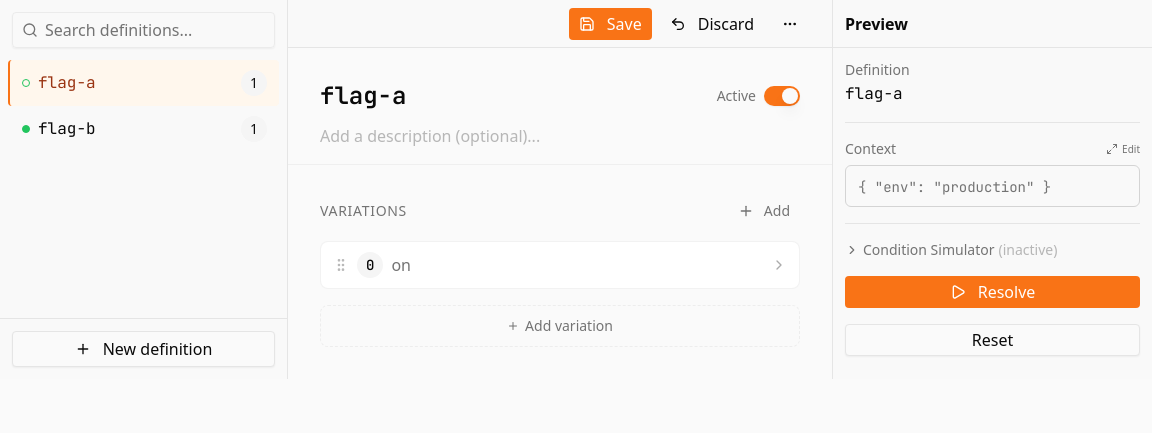
Test: Configurator async action handling › swallows selectDefinition rejection without crashing
This screenshot has width=1152, height=433.
Click the text "flag-b". click: point(67, 128)
box: x1=38 y1=118 x2=96 y2=139
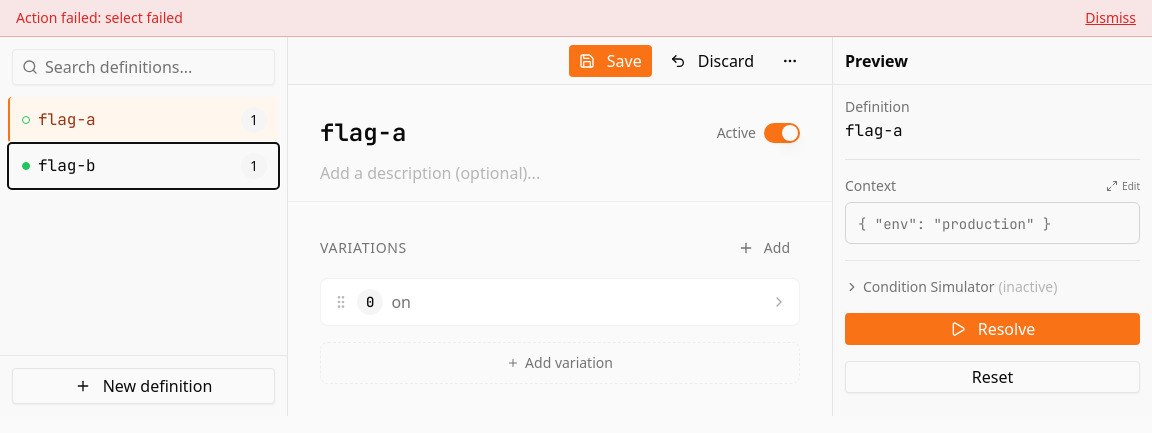
Expected: the message "Action failed: select failed Dismiss" is shown, x1=0 y1=0 x2=1151 y2=37
